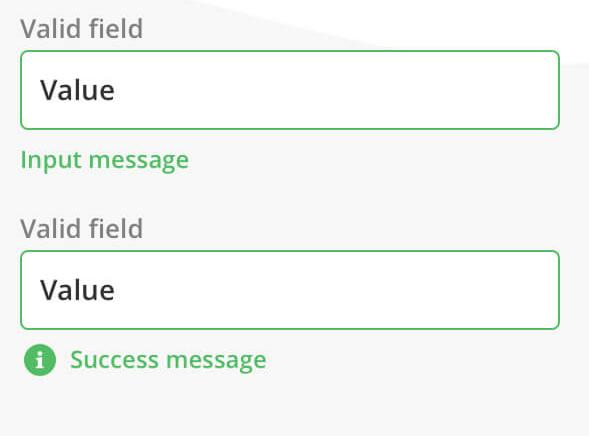field: (19, 248, 565, 333), (17, 48, 563, 131)
field_with_label: (12, 212, 570, 336), (12, 13, 568, 134)
